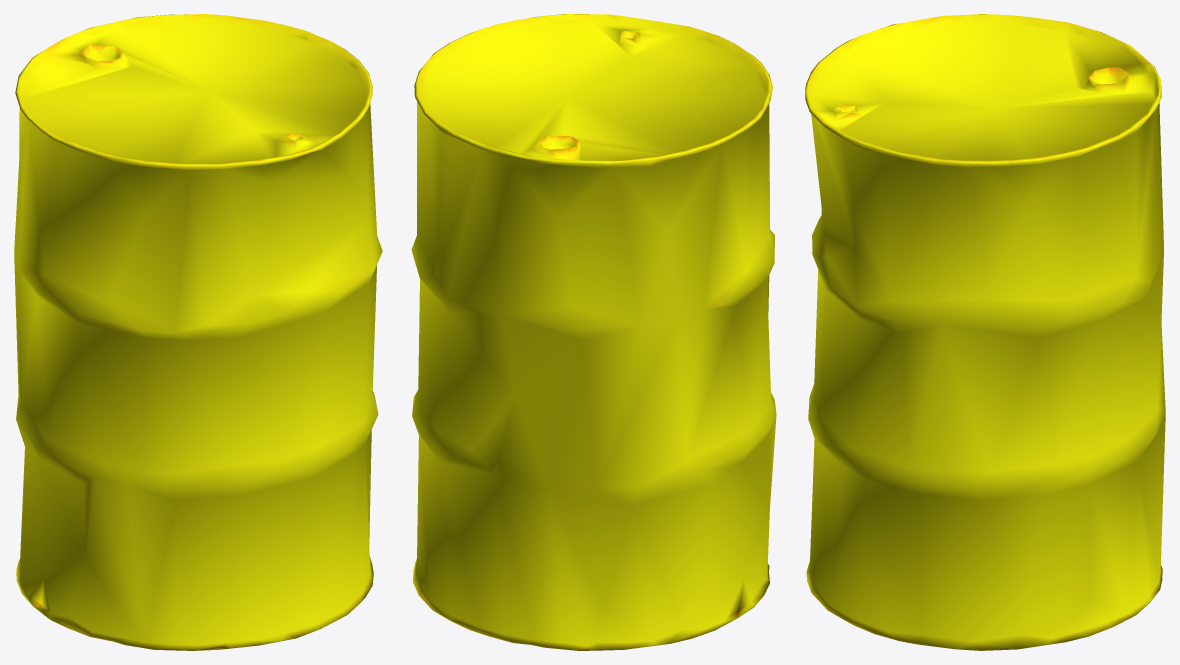
Rendered from junk2.glb.
3 renders of one model, left to right at view 1: azimuth 30°, elevation 25°; view 2: azimuth 150°, elevation 25°; view 3: azimuth 270°, elevation 25°, orthographic.
Parts seen in each view (by area): view 1: teufceuda_LOD0_TIER3_000; view 2: teufceuda_LOD0_TIER3_000; view 3: teufceuda_LOD0_TIER3_000.
Part boxes in pixels (bbox=[...]): teufceuda_LOD0_TIER3_000: bbox=[14, 14, 382, 650]; teufceuda_LOD0_TIER3_000: bbox=[411, 14, 776, 650]; teufceuda_LOD0_TIER3_000: bbox=[805, 14, 1165, 650].
Bounding box in the file's own units: 0.5917 × 0.877 × 0.5862.
1 material, 1 textured.
